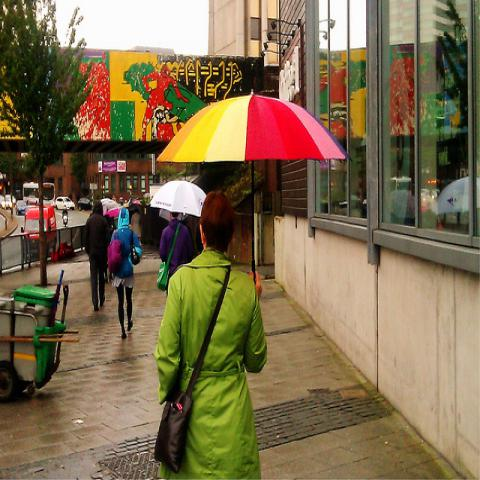bus: (23, 183, 55, 207)
car: (55, 196, 75, 210), (0, 194, 12, 210), (77, 198, 90, 212), (16, 200, 26, 217), (12, 195, 16, 205)
motorcycle: (63, 212, 68, 226)
truck: (20, 205, 57, 256)
